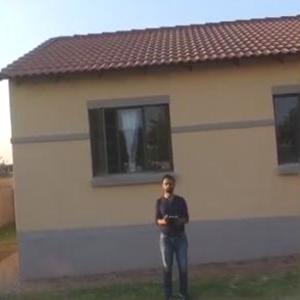follow: (151, 169, 196, 299)
